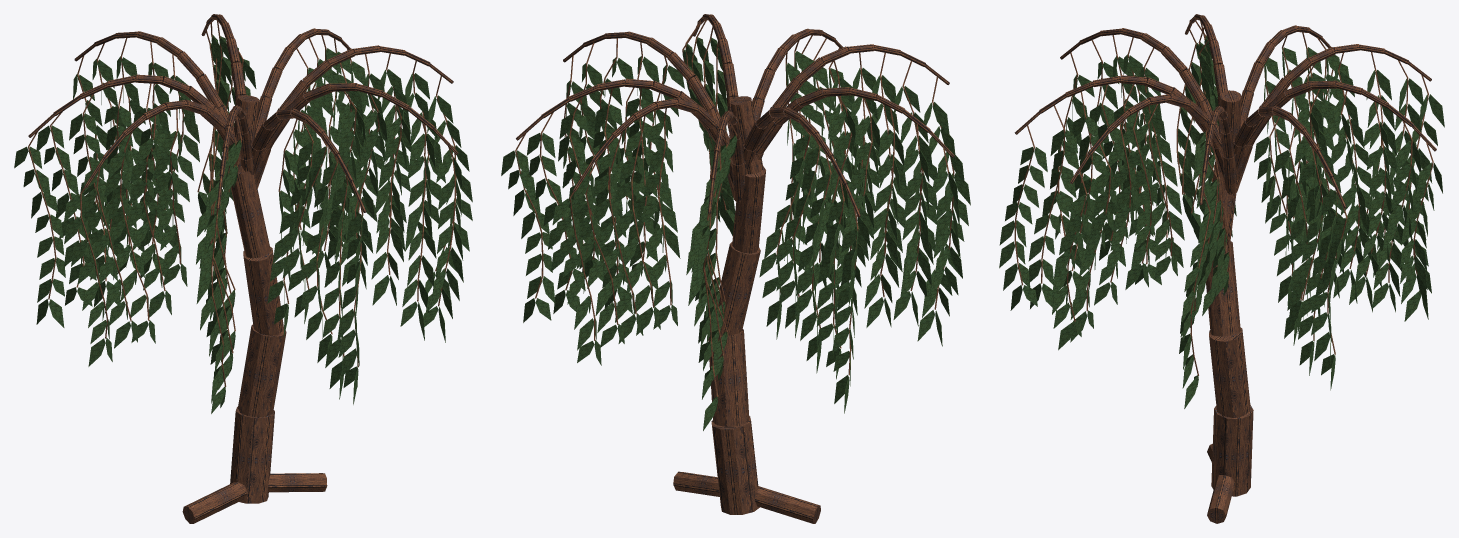
Rendered from willow.glb.
3 views of the same model, side by side, from view 1: azimuth 30°, elevation 25°; view 2: azimuth 150°, elevation 25°; view 3: azimuth 270°, elevation 25° (orthographic). The views are drawn at different scales.
Visible parts, largest first — view 1: willow_canal_leaf, willow_canal_wood; view 2: willow_canal_leaf, willow_canal_wood; view 3: willow_canal_leaf, willow_canal_wood.
Boxes of the visible parts, <box> form: willow_canal_leaf: <box>14,34,472,413</box>; willow_canal_wood: <box>28,14,458,523</box>; willow_canal_leaf: <box>501,37,970,430</box>; willow_canal_wood: <box>515,14,954,523</box>; willow_canal_leaf: <box>999,35,1444,408</box>; willow_canal_wood: <box>1014,14,1436,523</box>.
Size of the model in its own units: 5.04 by 5.29 by 4.97.
Materials: 2 (2 with a texture image).
